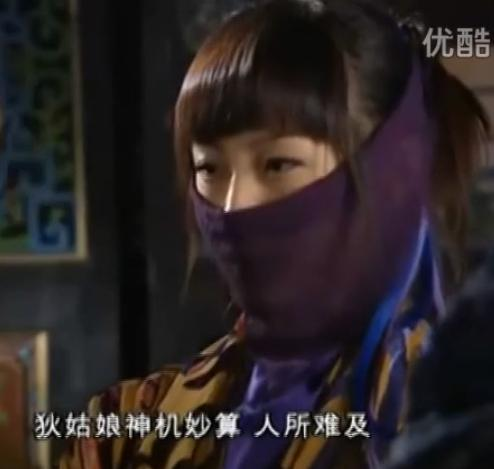WRONG: (188, 116, 382, 312)
